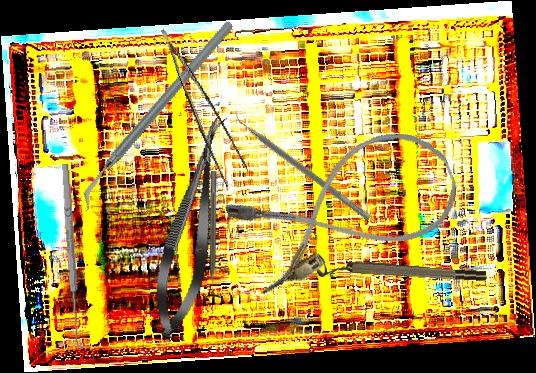Cannula: (221, 115, 470, 300)
Chopper: (37, 18, 278, 212)
Fixation Ring: (316, 253, 487, 292), (204, 171, 224, 301)
Hook Surgical: (59, 163, 90, 349)
Micro Scissor: (144, 111, 240, 342)
Spatula Surgical: (228, 108, 376, 222)
Tissue Forceps: (161, 19, 252, 192)
